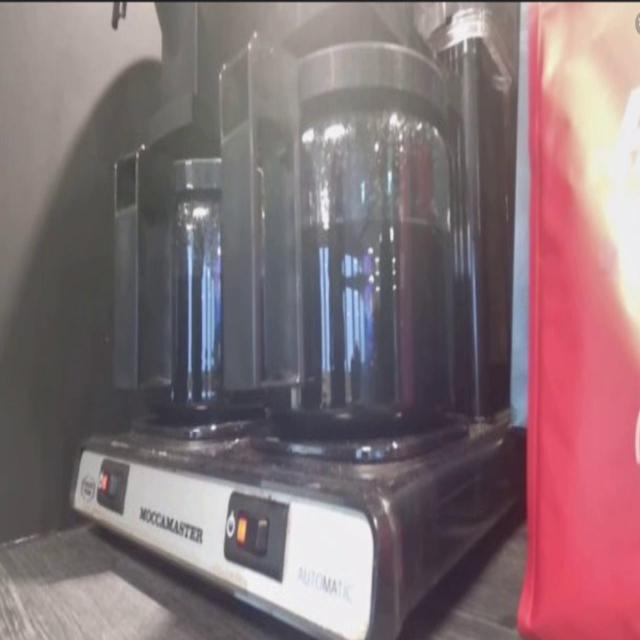coffee: (247, 39, 457, 445), (121, 143, 270, 425)
